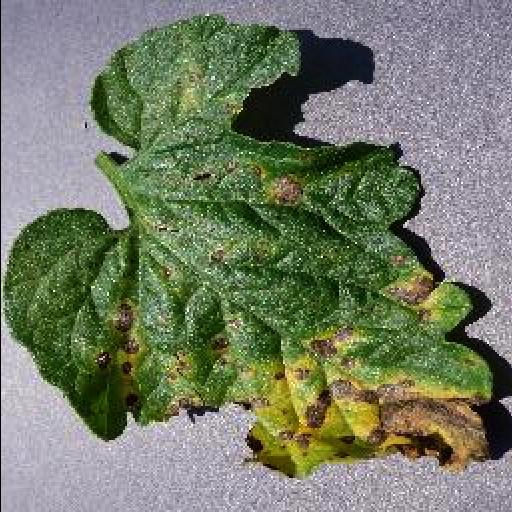disease_tomato: (0, 16, 498, 474)
